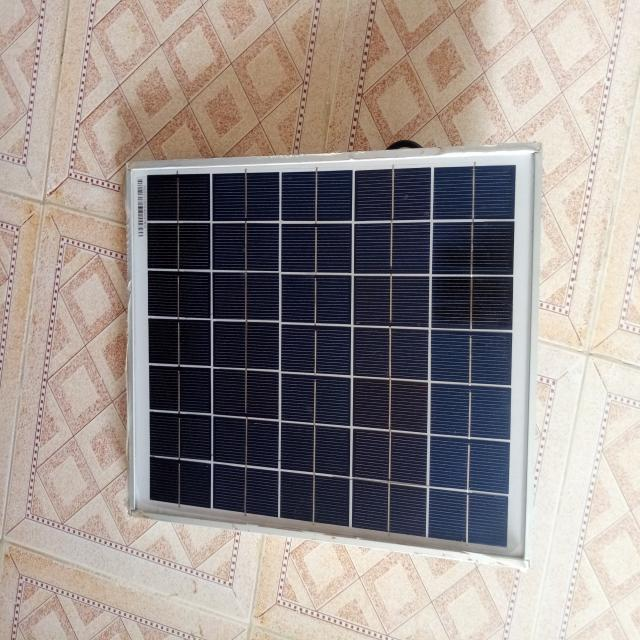no faulty: (128, 148, 539, 564)
